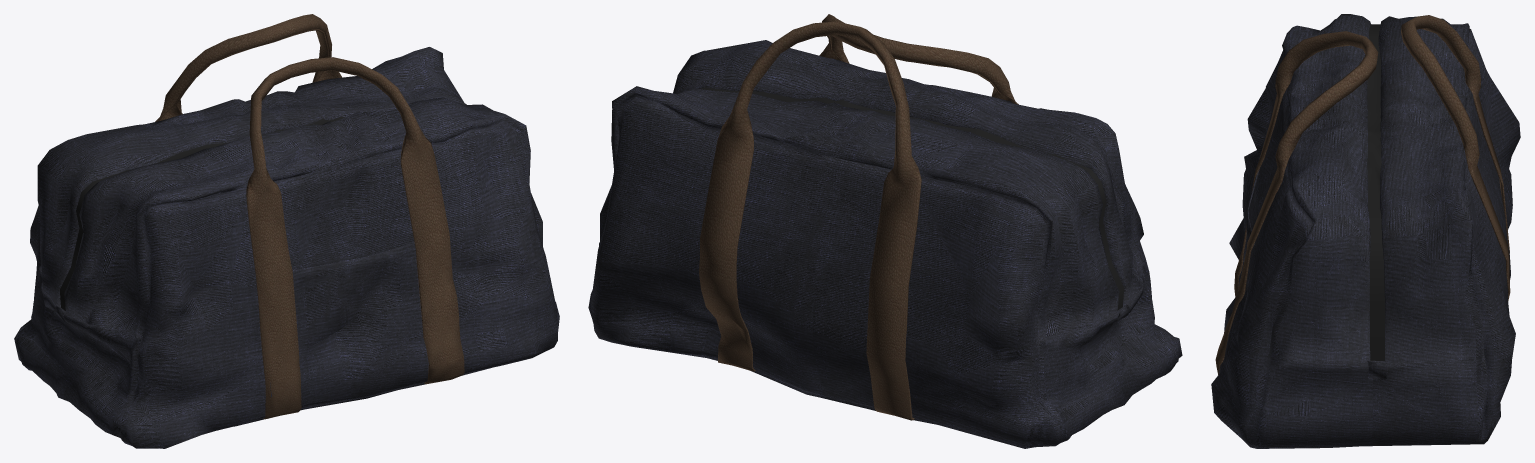
The model's file is Bag 1.FBX.
3 views of the same model, side by side, from view 1: azimuth 30°, elevation 25°; view 2: azimuth 150°, elevation 25°; view 3: azimuth 270°, elevation 25° (orthographic). The views are drawn at different scales.
Visible parts, largest first — view 1: bag; view 2: bag; view 3: bag.
Boxes of the visible parts, x1,y1,x2,y2 form: bag: (14, 14, 559, 448); bag: (588, 14, 1182, 448); bag: (1211, 14, 1520, 448).
Size of the model in its own units: 55.85 by 37.83 by 32.36.
3 materials, 2 textured.
